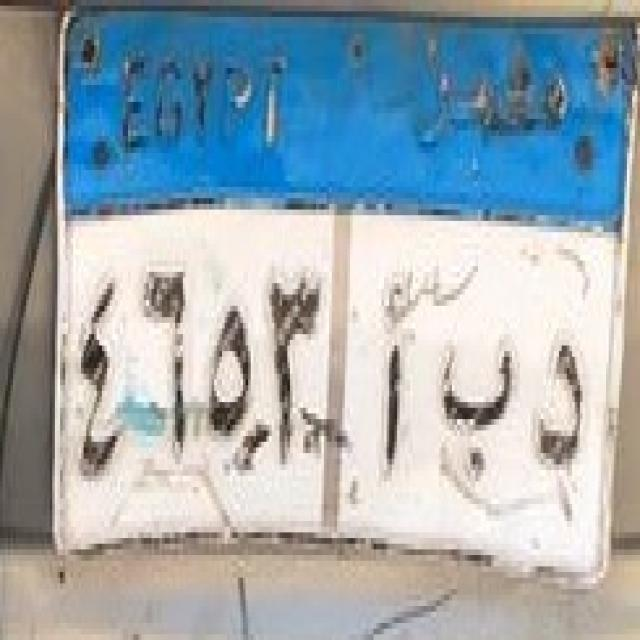3: (259, 254, 333, 485)
4: (68, 260, 138, 497)
5: (199, 289, 261, 449)
6: (132, 256, 202, 474)
alef: (358, 243, 426, 498)
baa: (434, 311, 528, 509)
daal: (530, 314, 596, 500)
